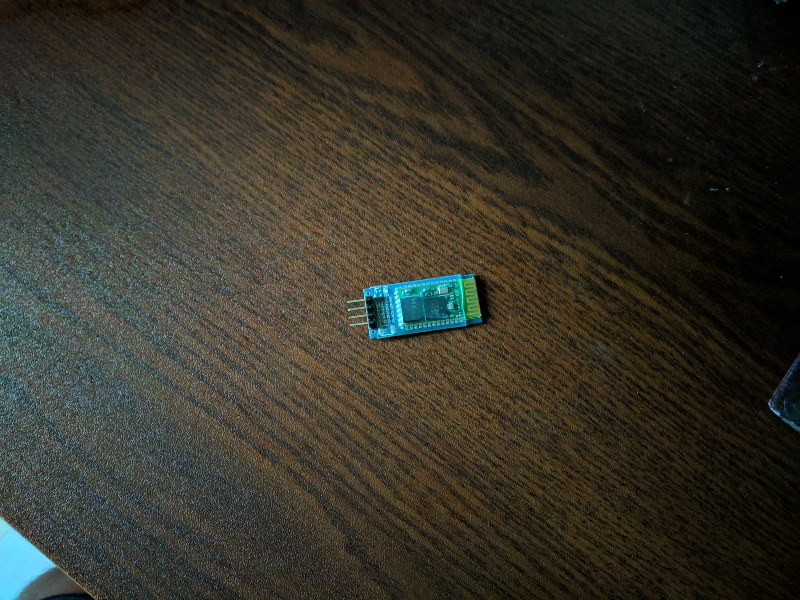HC-05: (357, 269, 491, 346)
